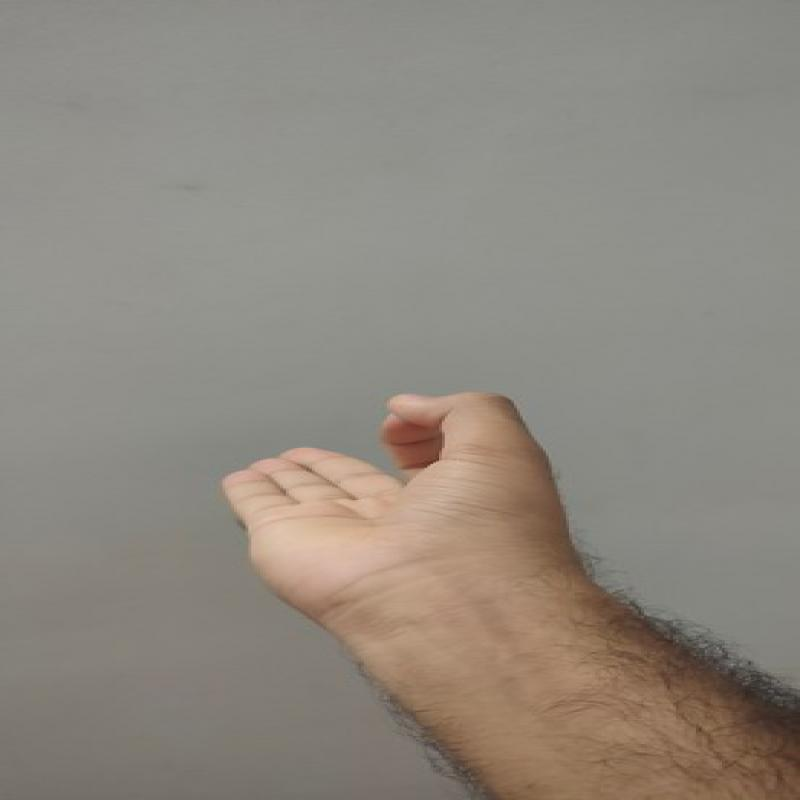Mudraakhyam: (202, 370, 569, 638)
